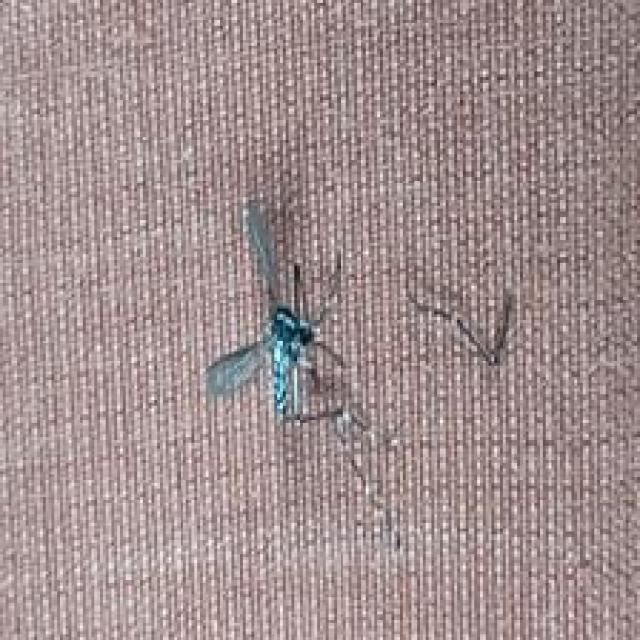Aedes albopictus: (201, 199, 353, 424)
